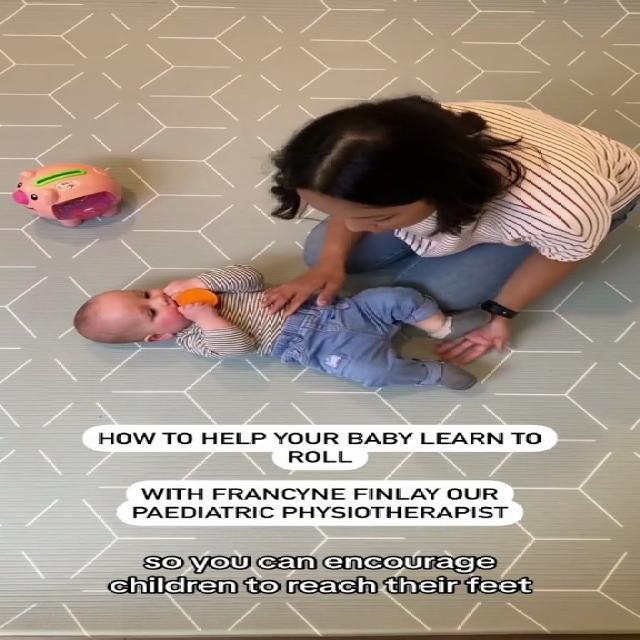baby: (67, 266, 506, 406)
